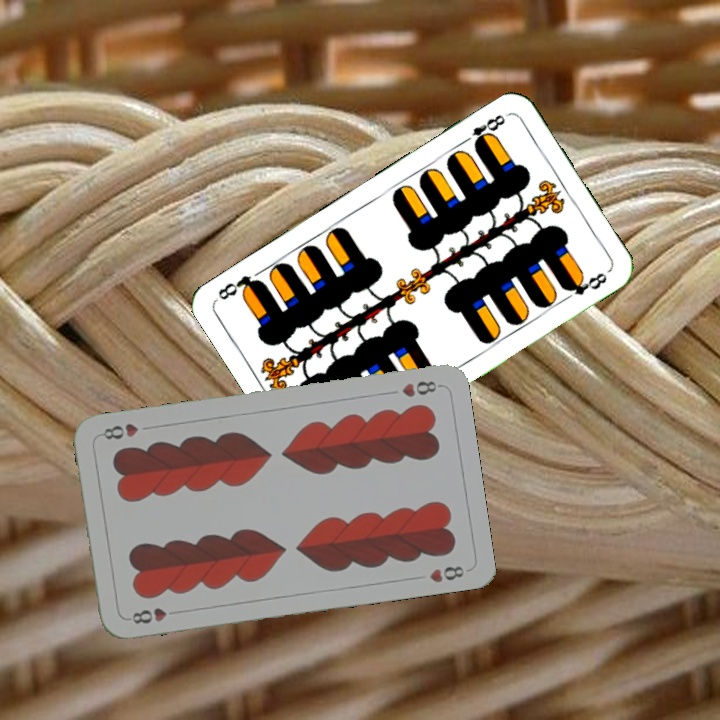E8: (457, 110, 508, 150)
H8: (128, 604, 183, 626), (397, 377, 443, 400)
